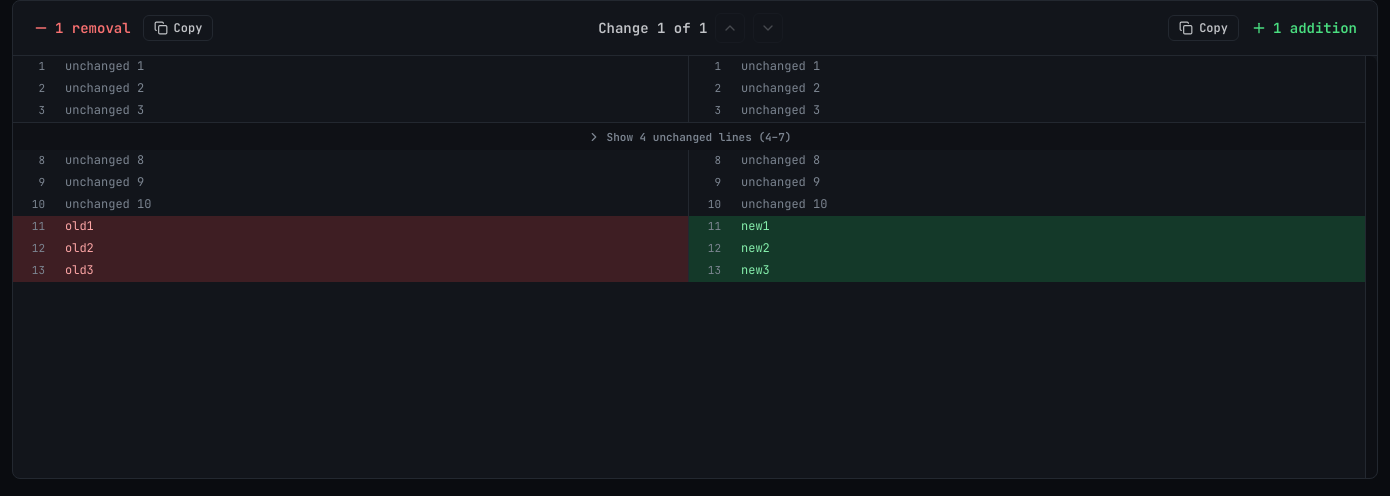
Scenario: LineDiffView › shows the copy button once per hunk, anchored to its first row, even when hovering a later row
Hover over the text "new3" at (755, 270), box [741,262,770,278]
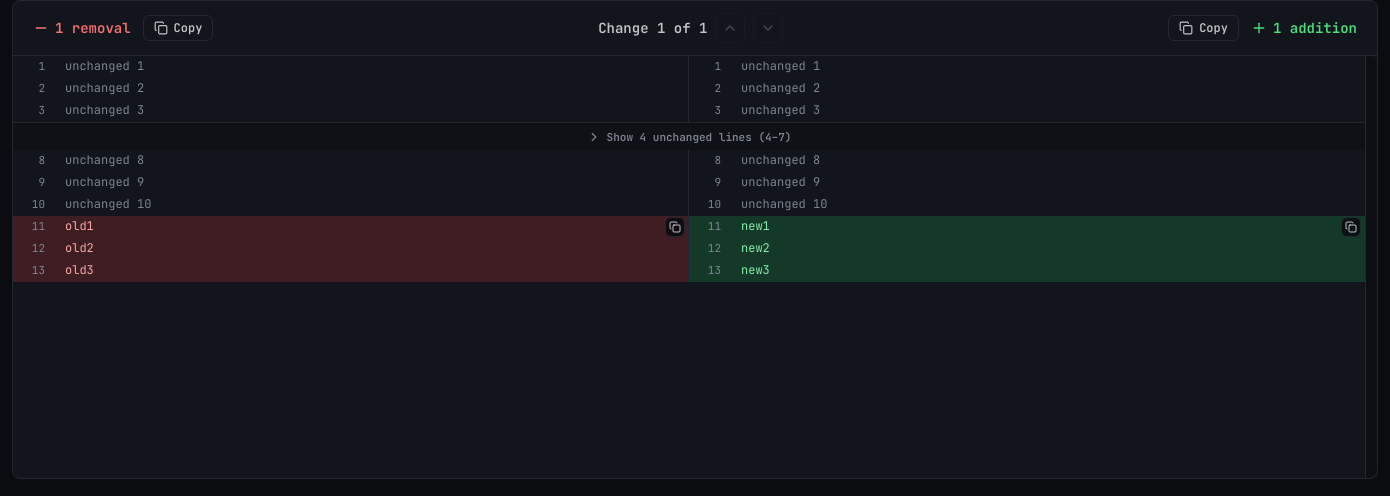
Expected: the number of buttons named "Copy added lines" is 1, [1341,217,1361,237]
